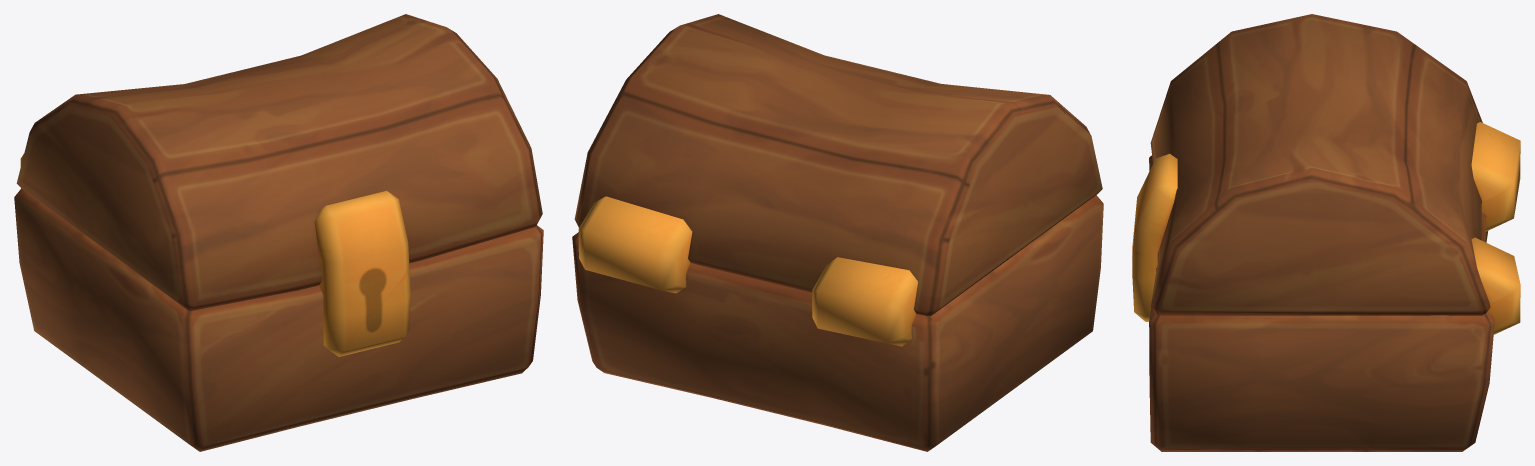
The model's file is Chest_01.fbx.
The picture shows the model from 3 angles, left to right: view 1: azimuth 30°, elevation 25°; view 2: azimuth 150°, elevation 25°; view 3: azimuth 270°, elevation 25°; orthographic projection. The views are drawn at different scales.
Visible parts, largest first — view 1: Chest_01; view 2: Chest_01; view 3: Chest_01.
Part boxes in pixels (x1,y1,x2,y2): Chest_01: (14, 14, 543, 451); Chest_01: (572, 14, 1103, 451); Chest_01: (1132, 14, 1520, 451).
Bounding box in the file's own units: 1.89 × 1.45 × 1.79.
